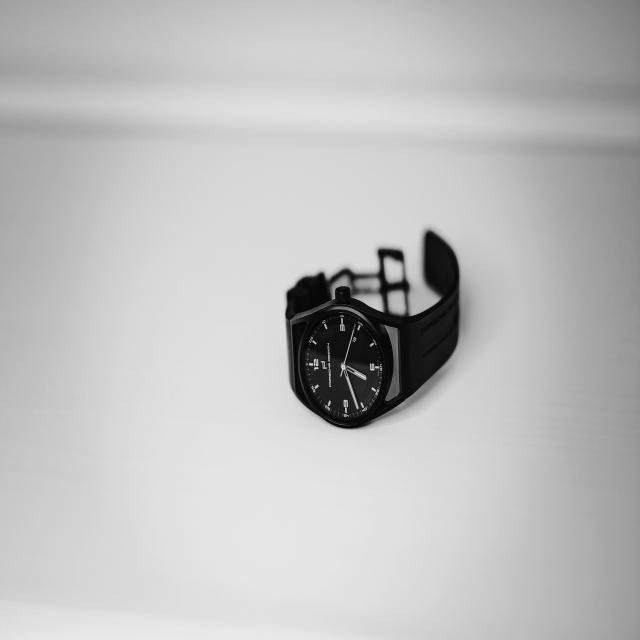relogio: (282, 224, 462, 430)
